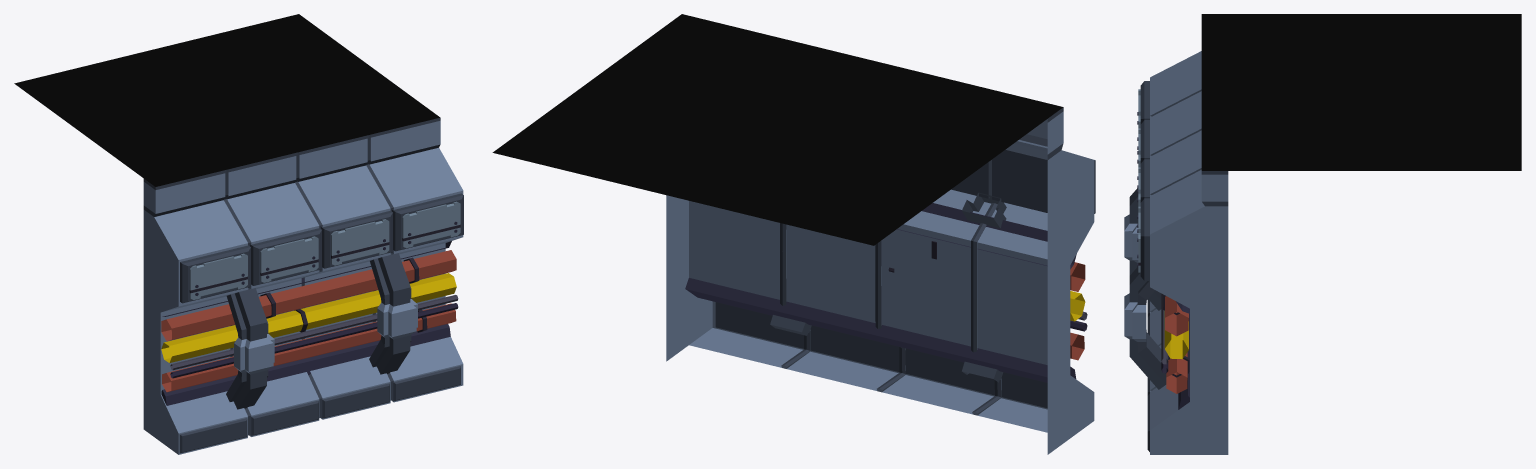
Rendered from WallC.fbx.
3 renders of one model, left to right at view 1: azimuth 30°, elevation 25°; view 2: azimuth 150°, elevation 25°; view 3: azimuth 270°, elevation 25°, orthographic. The views are drawn at different scales.
Parts seen in each view (by area): view 1: WallC; view 2: WallC; view 3: WallC.
Part boxes in pixels (x1=…): WallC: x1=14, y1=14, x2=463, y2=454; WallC: x1=492, y1=14, x2=1095, y2=454; WallC: x1=1124, y1=14, x2=1521, y2=454.
Bounding box in the file's own units: 400 × 337 × 428.
